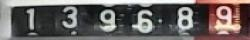digits: (15, 7, 46, 35), (131, 8, 155, 32), (98, 8, 116, 31), (176, 6, 193, 29), (214, 4, 232, 23), (61, 6, 77, 27)
